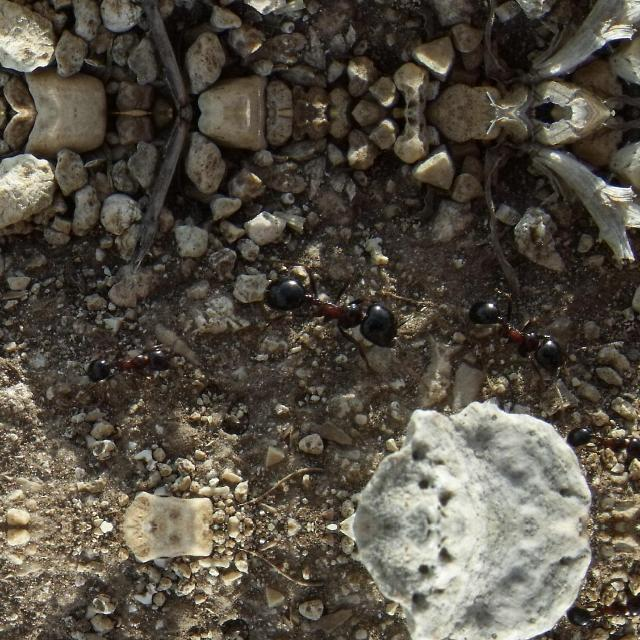Messor: (237, 256, 416, 364), (462, 289, 570, 383), (68, 336, 180, 398), (561, 411, 639, 482), (561, 571, 639, 640)
